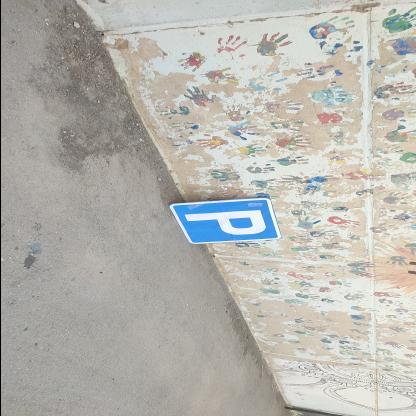Parking-Sign: (161, 197, 282, 247)
